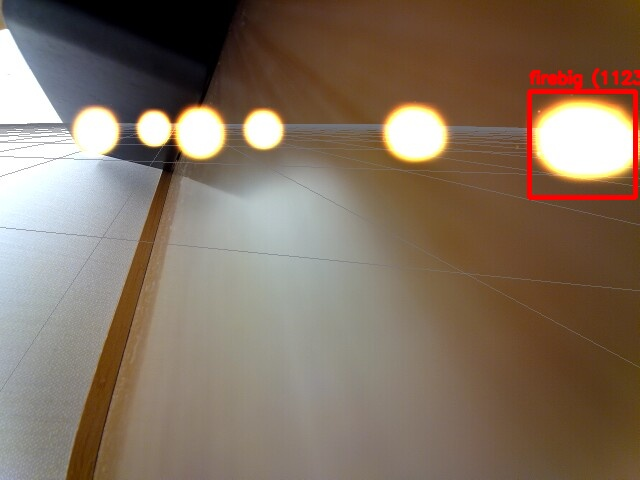firebig: (529, 91, 635, 197)
